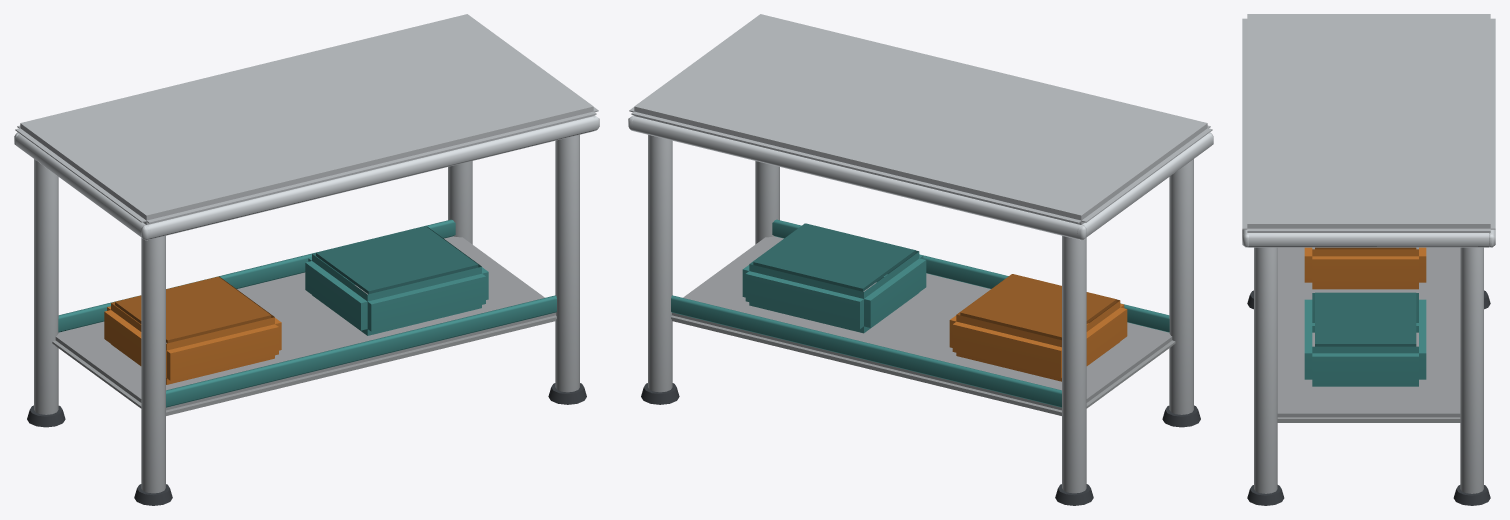
Rendered from SM_WorkTable_15.glb.
3 views of the same model, side by side, from view 1: azimuth 30°, elevation 25°; view 2: azimuth 150°, elevation 25°; view 3: azimuth 270°, elevation 25° (orthographic). The views are drawn at different scales.
Parts seen in each view (by area): view 1: SM_WorkTable_15; view 2: SM_WorkTable_15; view 3: SM_WorkTable_15.
Boxes of the visible parts, bbox=[...] form: SM_WorkTable_15: bbox=[14, 14, 599, 505]; SM_WorkTable_15: bbox=[628, 14, 1213, 505]; SM_WorkTable_15: bbox=[1242, 14, 1495, 505].
Size of the model in its own units: 1.5 by 0.92 by 0.75.
1 material, 1 textured.
